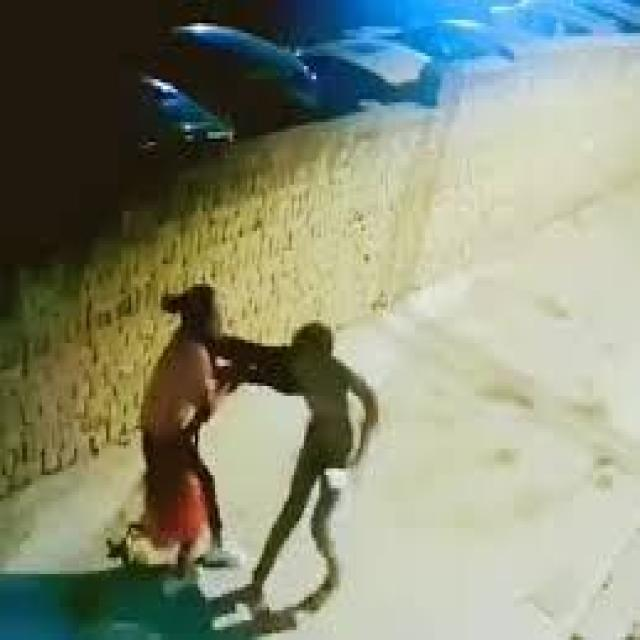fight: (85, 260, 391, 640)
